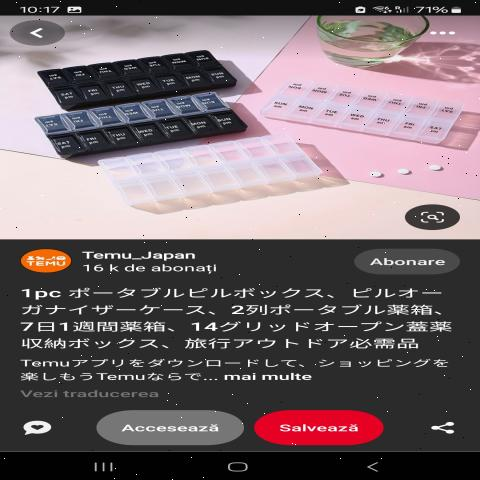PillBox: (18, 90, 259, 155), (38, 47, 274, 98)
